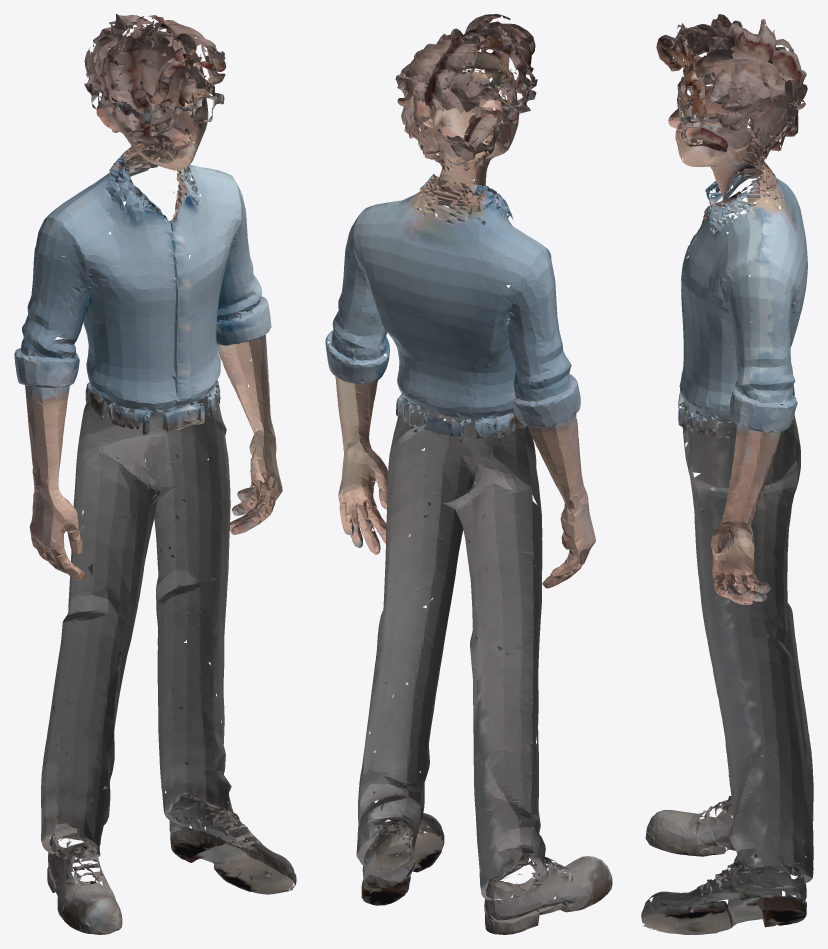
File: amodei.glb
The picture shows the model from 3 angles, left to right: view 1: azimuth 30°, elevation 25°; view 2: azimuth 150°, elevation 25°; view 3: azimuth 270°, elevation 25°; orthographic projection.
Bounding box in the file's own units: 0.5191 × 1.75 × 0.3177.
